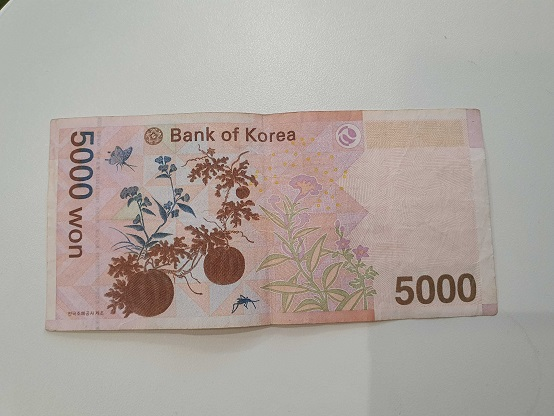5000won: (46, 111, 500, 331)
